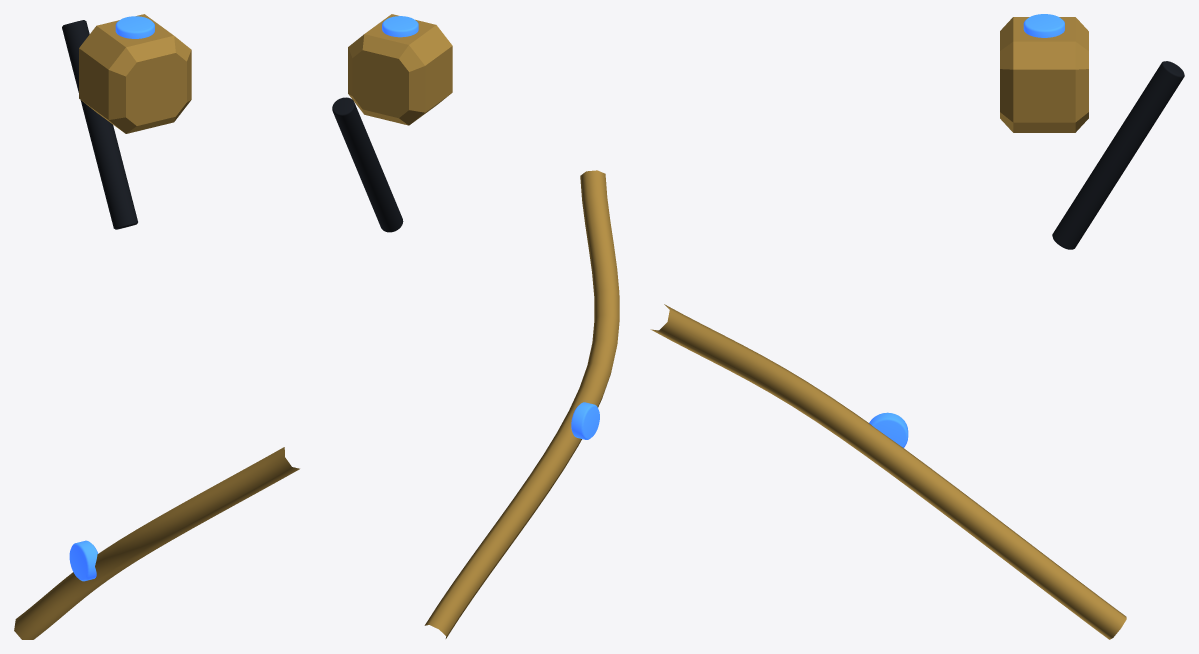
File: tower_lance_rate_s3.glb
3 renders of one model, left to right at view 1: azimuth 30°, elevation 25°; view 2: azimuth 150°, elevation 25°; view 3: azimuth 270°, elevation 25°, orthographic. The views are drawn at different scales.
Visible parts, largest first — view 1: lance_bus_tap, lance_coolant_line, lance_bus_tap_line, lance_up_rate_l2_stud, lance_up_rate_l3_stud; view 2: lance_coolant_line, lance_bus_tap, lance_bus_tap_line, lance_up_rate_l2_stud, lance_up_rate_l3_stud; view 3: lance_coolant_line, lance_bus_tap, lance_bus_tap_line, lance_up_rate_l3_stud, lance_up_rate_l2_stud.
Boxes of the visible parts, left/top/right/bottom form: lance_bus_tap: left=79, top=14, right=191, bottom=133; lance_coolant_line: left=14, top=447, right=299, bottom=639; lance_bus_tap_line: left=62, top=20, right=137, bottom=229; lance_up_rate_l2_stud: left=69, top=540, right=98, bottom=581; lance_up_rate_l3_stud: left=115, top=16, right=154, bottom=38; lance_coolant_line: left=424, top=170, right=619, bottom=638; lance_bus_tap: left=348, top=14, right=452, bottom=125; lance_bus_tap_line: left=332, top=97, right=403, bottom=232; lance_up_rate_l2_stud: left=571, top=402, right=599, bottom=439; lance_up_rate_l3_stud: left=382, top=16, right=418, bottom=37; lance_coolant_line: left=650, top=304, right=1126, bottom=639; lance_bus_tap: left=1000, top=17, right=1088, bottom=132; lance_bus_tap_line: left=1052, top=61, right=1184, bottom=249; lance_up_rate_l3_stud: left=1023, top=14, right=1064, bottom=37; lance_up_rate_l2_stud: left=869, top=412, right=908, bottom=447.
Size of the model in its own units: 0.2836 by 0.9744 by 0.7238.
